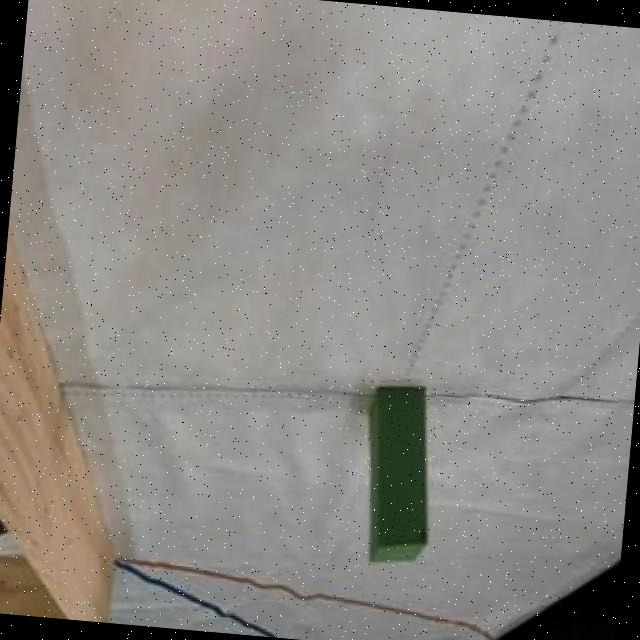greenbox: (358, 380, 437, 564)
